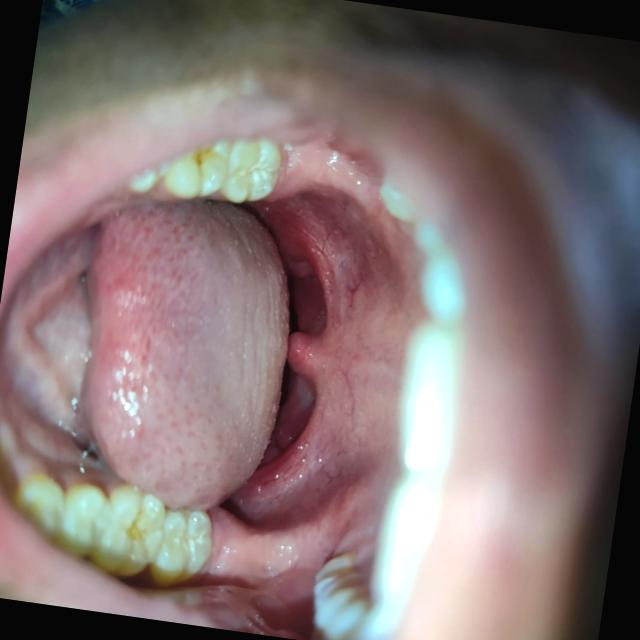No Cancer: (54, 144, 466, 614)
